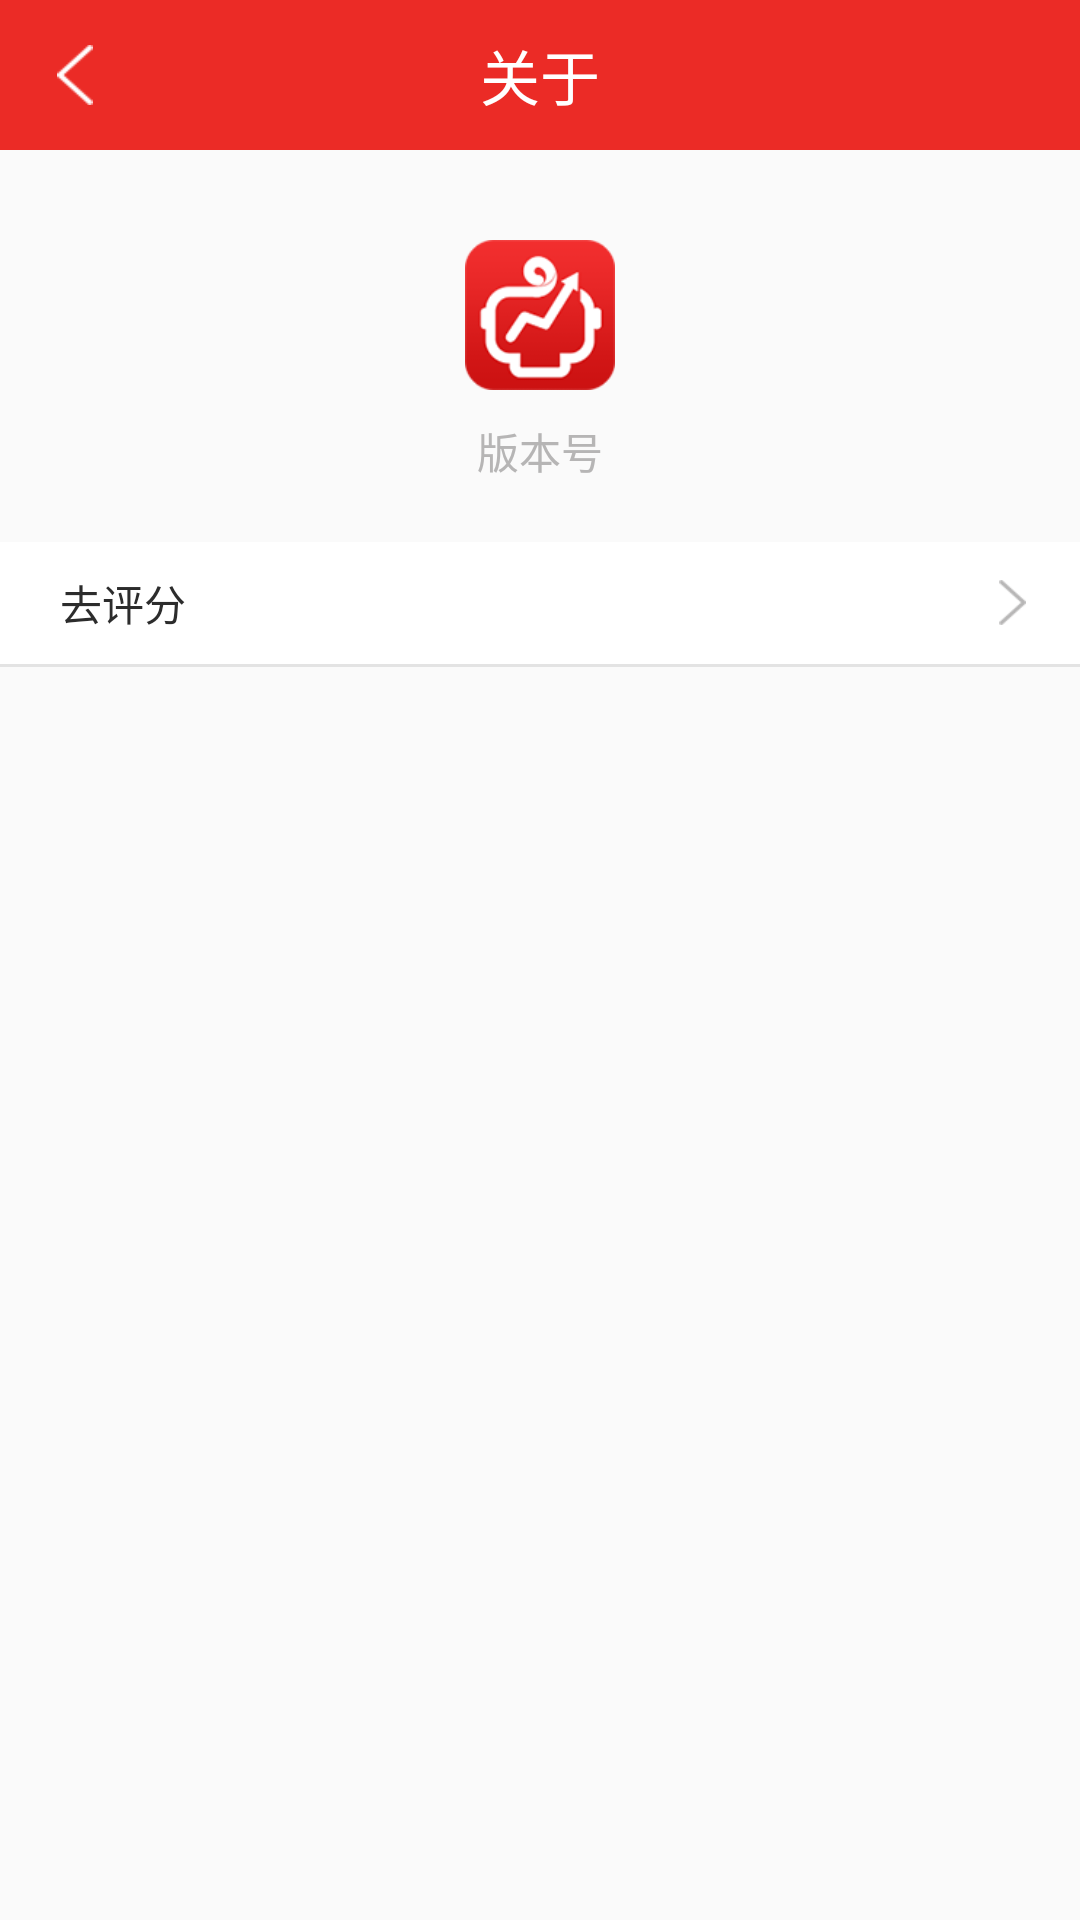

Named icons in this screenshot (1080px x 1920px) and their centers, point (x, y):
left: point (75, 75)
right: point (1012, 602)
